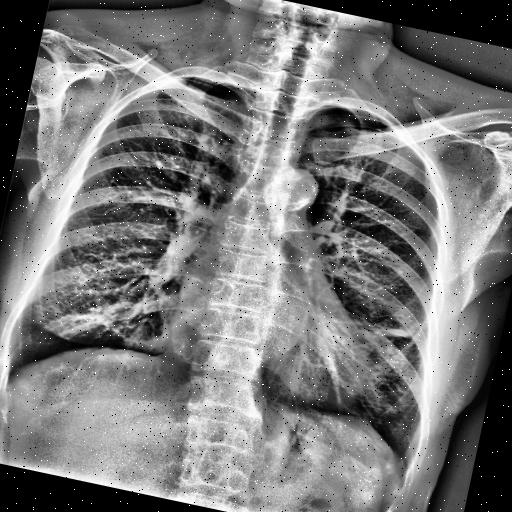0- Aortic enlargement: (256, 162, 322, 216), (262, 162, 322, 212)
13- Pulmonary fibrosis: (356, 319, 420, 345), (368, 320, 414, 341), (378, 320, 416, 342)
2- Calcification: (287, 172, 319, 212)
